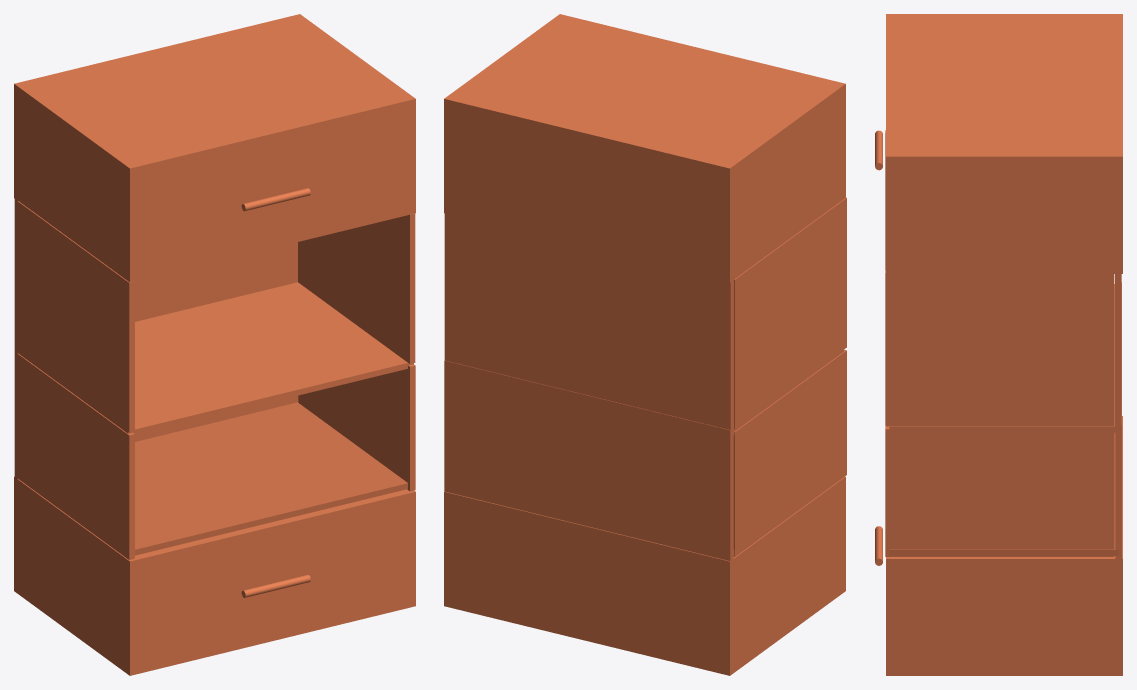
The model's file is ichago drawer (2).fbx.
3 renders of one model, left to right at view 1: azimuth 30°, elevation 25°; view 2: azimuth 150°, elevation 25°; view 3: azimuth 270°, elevation 25°, orthographic. The views are drawn at different scales.
Visible parts, largest first — view 1: Drawer_Front_Bottom.001, Drawer_Front_Bottom, Shelf_Divider_2, Shelf_Divider_1, Shelf_Divider_2.005, Shelf_Divider_2.003, Shelf_Divider_2.006, Shelf_Divider_2.004, Shelf_Divider_2.002, Shelf_Divider_2.001, Shelf_Divider_3; view 2: Drawer_Front_Bottom.001, Drawer_Front_Bottom, Shelf_Divider_2.002, Shelf_Divider_2.001, Shelf_Divider_2.005, Shelf_Divider_2.003; view 3: Drawer_Front_Bottom.001, Shelf_Divider_2.006, Drawer_Front_Bottom, Shelf_Divider_2.004, Shelf_Divider_1, Shelf_Divider_2, Shelf_Divider_2.001, Shelf_Divider_2.002, Shelf_Divider_3.
Boxes of the visible parts, box(x1,y1,x2,y2) form: Drawer_Front_Bottom.001: box(14, 14, 415, 282); Drawer_Front_Bottom: box(14, 476, 415, 675); Shelf_Divider_2: box(16, 282, 413, 435); Shelf_Divider_1: box(16, 402, 407, 555); Shelf_Divider_2.005: box(17, 201, 134, 432); Shelf_Divider_2.003: box(17, 353, 134, 559); Shelf_Divider_2.006: box(298, 213, 415, 363); Shelf_Divider_2.004: box(298, 364, 415, 491); Shelf_Divider_2.002: box(14, 198, 297, 350); Shelf_Divider_2.001: box(14, 351, 298, 501); Shelf_Divider_3: box(16, 194, 128, 280); Drawer_Front_Bottom.001: box(444, 14, 845, 282); Drawer_Front_Bottom: box(444, 476, 845, 675); Shelf_Divider_2.002: box(444, 213, 733, 431); Shelf_Divider_2.001: box(444, 360, 733, 583); Shelf_Divider_2.005: box(734, 197, 846, 429); Shelf_Divider_2.003: box(733, 349, 846, 556); Drawer_Front_Bottom.001: box(886, 14, 1122, 273); Shelf_Divider_2.006: box(885, 270, 1114, 426); Drawer_Front_Bottom: box(886, 416, 1122, 675); Shelf_Divider_2.004: box(885, 426, 1114, 556); Shelf_Divider_1: box(889, 432, 1119, 555); Shelf_Divider_2: box(889, 284, 1119, 432); Shelf_Divider_2.001: box(1115, 282, 1121, 582); Shelf_Divider_2.002: box(1115, 273, 1121, 427); Shelf_Divider_3: box(889, 267, 1118, 273).
Bounding box in the file's own units: 1.54 × 2.6 × 1.13.
